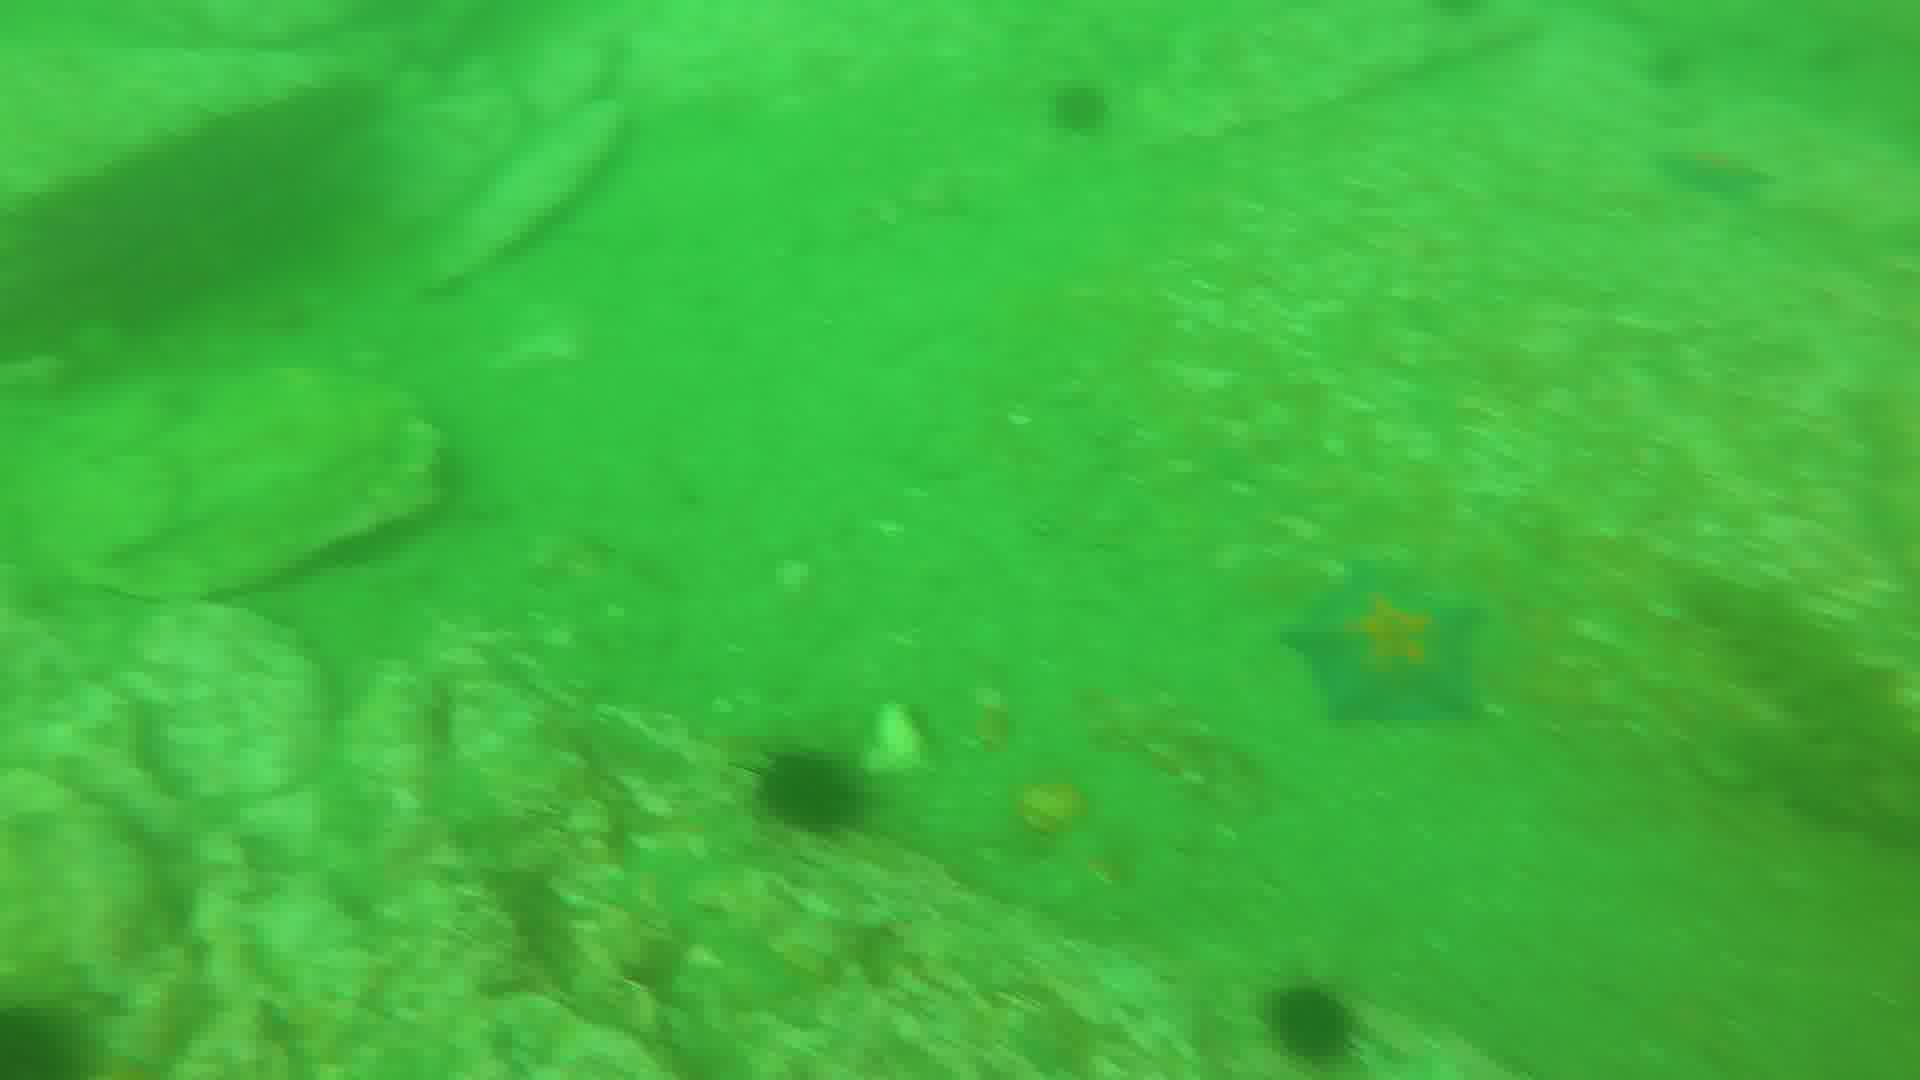echinus: (757, 744, 872, 840), (1261, 978, 1373, 1073), (1, 1007, 127, 1080), (1058, 86, 1120, 138)
holothurian: (1693, 571, 1920, 761)
starfish: (1284, 562, 1485, 723), (1650, 135, 1780, 204)
